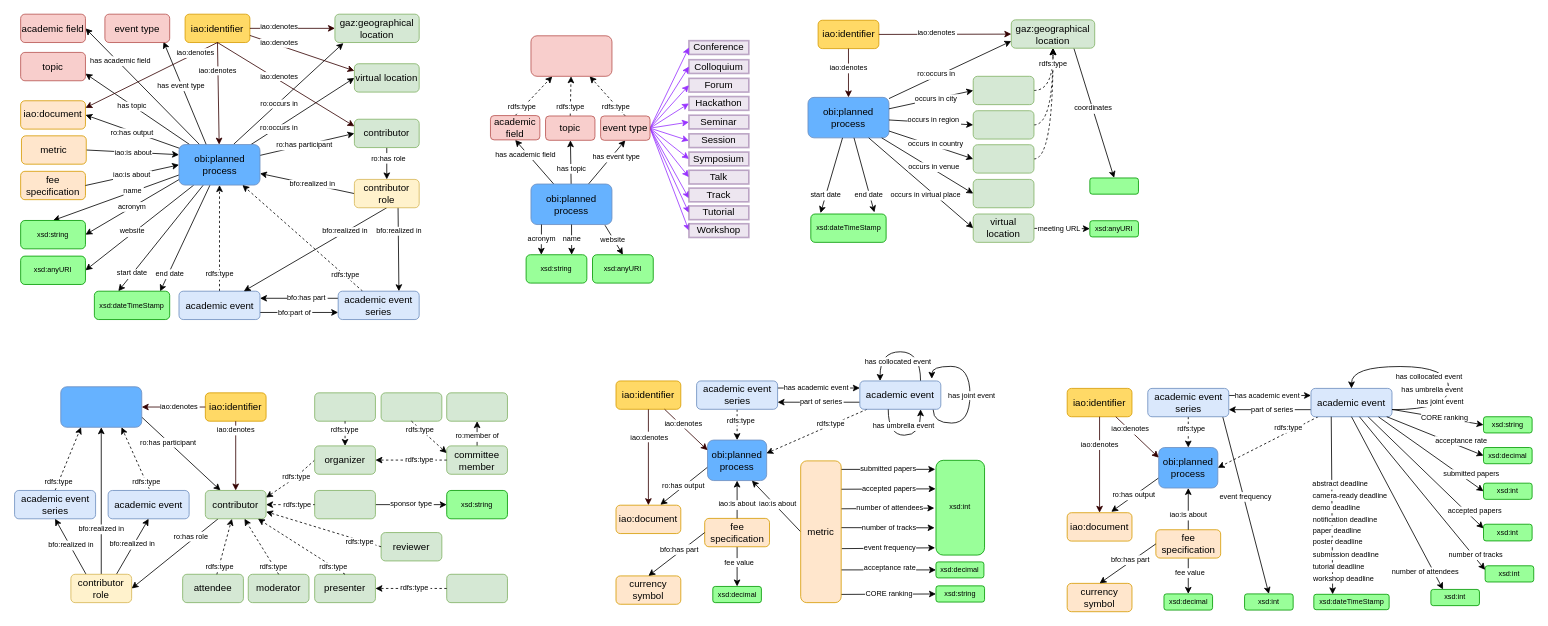
This 1548x626 diagram has some shape labels left out. Each missing label, with the centre of its shape:
"city" belongs at (1003,90).
"committee" belongs at (476,406).
"committee chair" belongs at (411,406).
"contact person" belongs at (344,406).
"country" belongs at (1003,158).
"keynote speaker" belongs at (476,588).
"planned process" belongs at (101,406).
"rdfs:Literal" belongs at (1113,185).
"region" belongs at (1003,124).
"SKOS:Concept" belongs at (571,55).
"sponsor" belongs at (344,504).
"venue" belongs at (1003,193).
